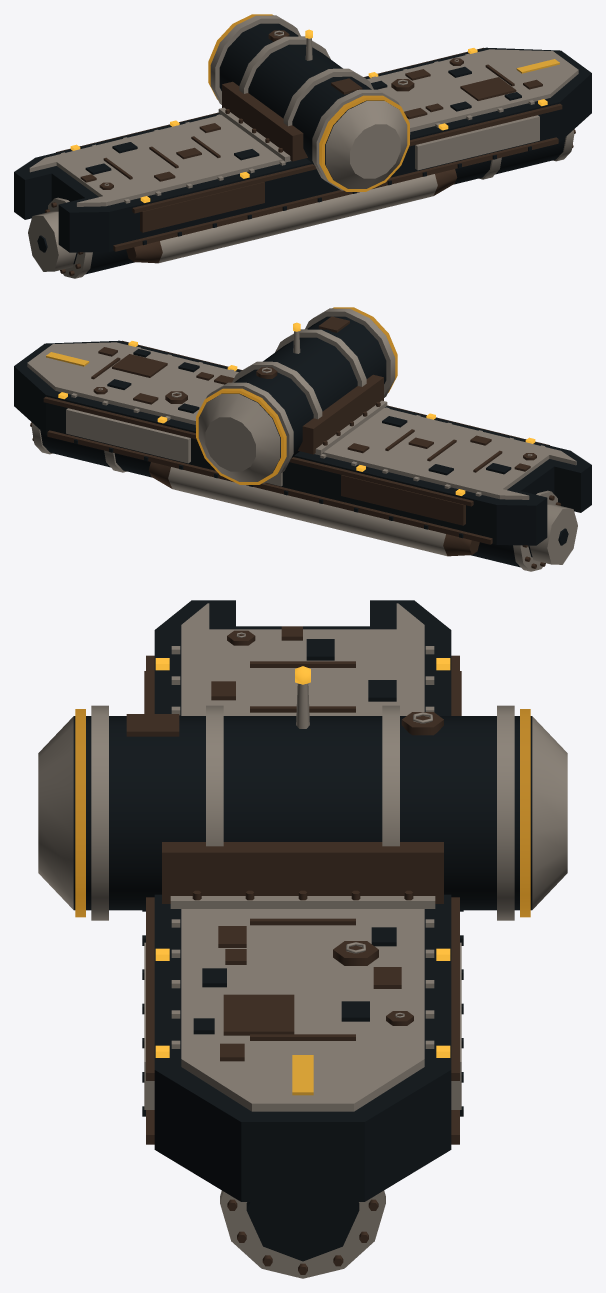
File: beacon-bathyarch.glb
The picture shows the model from 3 angles, top to bottom: view 1: azimuth 30°, elevation 25°; view 2: azimuth 150°, elevation 25°; view 3: azimuth 270°, elevation 25°; orthographic projection. The views are drawn at different scales.
Parts seen in each view (by area): view 1: deck, hull_lower, transducer_drum, ballast_s, drum_head_s, flank_plate_s0, strake_s, flank_plate_s1, drum_chock_a, flank_seam_s, pressure-hull, prop_shroud_0 (+11 smaller); view 2: deck, hull_lower, transducer_drum, ballast_p, drum_head_p, flank_plate_p0, strake_p, flank_plate_p1, drum_chock_a, flank_seam_p, pressure-hull, prop_shroud_0 (+11 smaller); view 3: deck, transducer_drum, hull_lower, drum_chock_f, drum_head_s, drum_head_p, end-cap-fore-core, end-cap-fore, drum_hoop_s1, drum_hoop_p1, drum_bed, patch_deck (+8 smaller).
Boxes of the visible parts, <box> form: deck: <box>29,49,578,206</box>; hull_lower: <box>14,47,591,252</box>; transducer_drum: <box>219,23,384,176</box>; ballast_s: <box>158,174,437,262</box>; drum_head_s: <box>325,101,407,188</box>; flank_plate_s0: <box>415,115,539,170</box>; strake_s: <box>113,137,558,251</box>; flank_plate_s1: <box>140,182,264,232</box>; drum_chock_a: <box>222,81,307,161</box>; flank_seam_s: <box>132,103,562,213</box>; pressure-hull: <box>85,137,565,274</box>; prop_shroud_0: <box>28,211,76,271</box>; deck: <box>27,342,576,499</box>; hull_lower: <box>14,340,591,545</box>; transducer_drum: <box>221,316,386,469</box>; ballast_p: <box>168,467,447,555</box>; drum_head_p: <box>198,394,280,481</box>; flank_plate_p0: <box>66,408,190,463</box>; strake_p: <box>47,430,492,544</box>; flank_plate_p1: <box>341,475,465,525</box>; drum_chock_a: <box>298,374,383,454</box>; flank_seam_p: <box>43,396,473,506</box>; pressure-hull: <box>40,430,520,567</box>; prop_shroud_0: <box>529,504,577,564</box>; deck: <box>181,603,424,1111</box>; transducer_drum: <box>73,716,532,910</box>; hull_lower: <box>154,600,451,1201</box>; drum_chock_f: <box>162,842,443,903</box>; drum_head_s: <box>38,716,73,909</box>; drum_head_p: <box>532,716,567,909</box>; end-cap-fore-core: <box>246,1202,359,1261</box>; end-cap-fore: <box>220,1190,385,1278</box>; drum_hoop_s1: <box>91,705,108,920</box>; drum_hoop_p1: <box>497,705,514,920</box>; drum_bed: <box>170,896,435,908</box>; patch_deck: <box>223,994,294,1035</box>.
Size of the model in its own units: 70 by 23.45 by 30.
